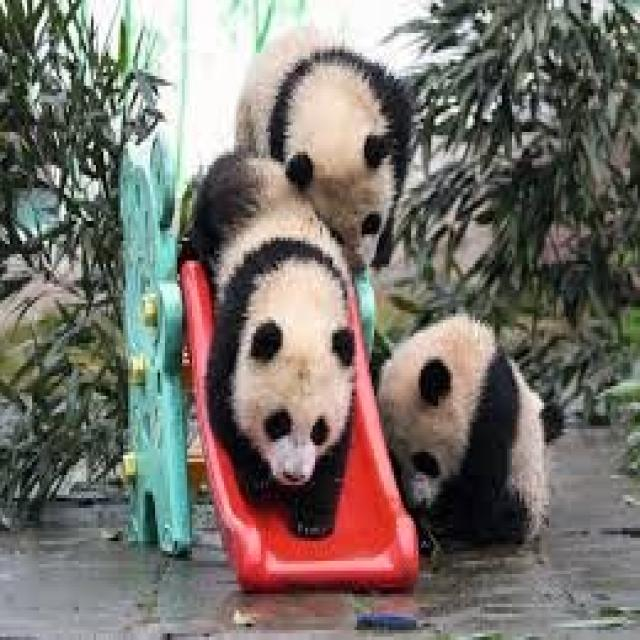Panda: (195, 157, 353, 527), (374, 312, 546, 570), (259, 13, 411, 253)
